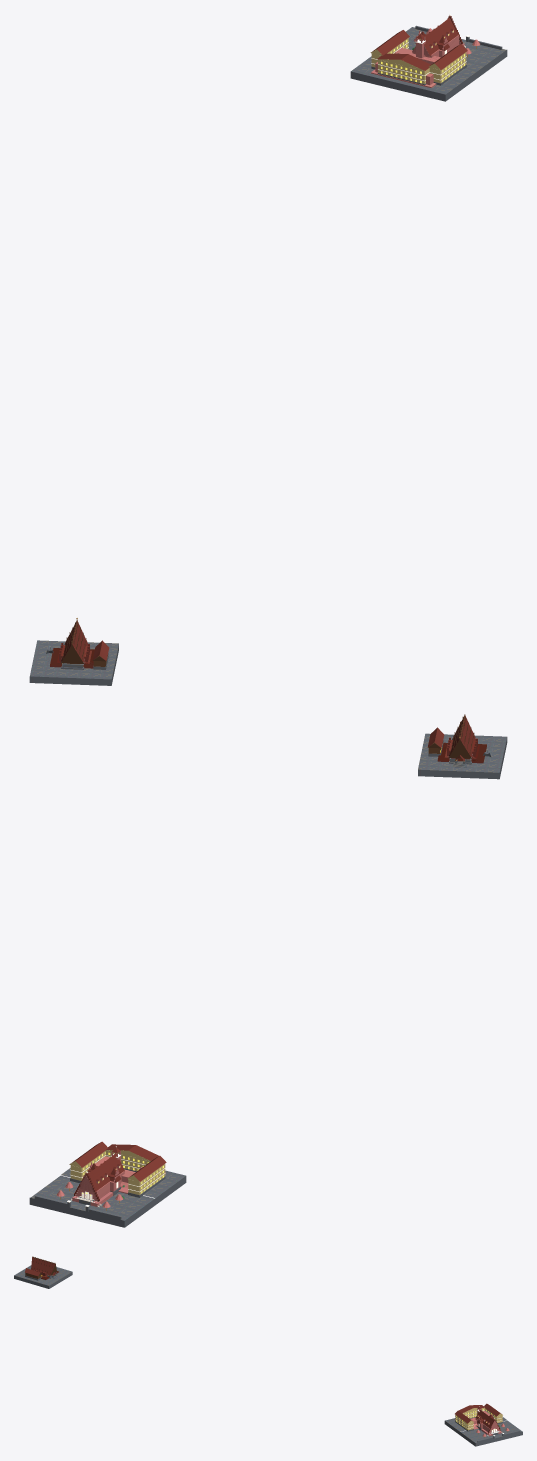
The model's file is tc_04_domaine_de_marie_and_cam_ly_churches.glb.
3 views of the same model, one above another, from view 1: azimuth 30°, elevation 25°; view 2: azimuth 210°, elevation 25°; view 3: azimuth 270°, elevation 25° (orthographic). The views are drawn at different scales.
Parts seen in each view (by area): view 1: Domaine_01_Normandy_Stone_Plinth_And_Twin_Stairs, CamLy_01_Split_Stone_40cm_Base_Wall_And_Grotto, Domaine_04_Steep_Rong_Tile_Roof_And_10_Dormers, Domaine_06_St_Vincent_3Story_Convent_Wings, CamLy_04_17m_Nha_Rong_Axe_Blade_Roof_80k_Tiles, Domaine_02_Terracotta_Pink_Chapel_Nave_33x11m; view 2: Domaine_01_Normandy_Stone_Plinth_And_Twin_Stairs, CamLy_01_Split_Stone_40cm_Base_Wall_And_Grotto, Domaine_04_Steep_Rong_Tile_Roof_And_10_Dormers, Domaine_06_St_Vincent_3Story_Convent_Wings, CamLy_04_17m_Nha_Rong_Axe_Blade_Roof_80k_Tiles, Domaine_02_Terracotta_Pink_Chapel_Nave_33x11m, CamLy_03_12m_Span_Timber_Truss_And_LangBiang_Altar; view 3: Domaine_01_Normandy_Stone_Plinth_And_Twin_Stairs, CamLy_01_Split_Stone_40cm_Base_Wall_And_Grotto, Domaine_04_Steep_Rong_Tile_Roof_And_10_Dormers, CamLy_04_17m_Nha_Rong_Axe_Blade_Roof_80k_Tiles, Domaine_06_St_Vincent_3Story_Convent_Wings, Domaine_02_Terracotta_Pink_Chapel_Nave_33x11m.
Boxes of the visible parts, x1,y1,x2,y2 form: Domaine_01_Normandy_Stone_Plinth_And_Twin_Stairs: (350,25,507,101); CamLy_01_Split_Stone_40cm_Base_Wall_And_Grotto: (29,640,118,685); Domaine_04_Steep_Rong_Tile_Roof_And_10_Dormers: (372,15,467,70); Domaine_06_St_Vincent_3Story_Convent_Wings: (371,38,466,83); CamLy_04_17m_Nha_Rong_Axe_Blade_Roof_80k_Tiles: (50,621,109,668); Domaine_02_Terracotta_Pink_Chapel_Nave_33x11m: (371,17,480,87); Domaine_01_Normandy_Stone_Plinth_And_Twin_Stairs: (29,1168,186,1227); CamLy_01_Split_Stone_40cm_Base_Wall_And_Grotto: (418,733,507,779); Domaine_04_Steep_Rong_Tile_Roof_And_10_Dormers: (70,1141,166,1201); Domaine_06_St_Vincent_3Story_Convent_Wings: (69,1150,165,1194); CamLy_04_17m_Nha_Rong_Axe_Blade_Roof_80k_Tiles: (427,715,486,763); Domaine_02_Terracotta_Pink_Chapel_Nave_33x11m: (56,1151,165,1207); CamLy_03_12m_Span_Timber_Truss_And_LangBiang_Altar: (428,714,474,758); Domaine_01_Normandy_Stone_Plinth_And_Twin_Stairs: (444,1417,522,1446); CamLy_01_Split_Stone_40cm_Base_Wall_And_Grotto: (14,1265,72,1288); Domaine_04_Steep_Rong_Tile_Roof_And_10_Dormers: (455,1403,501,1433); CamLy_04_17m_Nha_Rong_Axe_Blade_Roof_80k_Tiles: (25,1257,58,1279); Domaine_06_St_Vincent_3Story_Convent_Wings: (455,1407,502,1430); Domaine_02_Terracotta_Pink_Chapel_Nave_33x11m: (454,1408,509,1436).
Bounding box in the file's own units: 617 × 79.9 × 594.
Materials: 13 (5 with a texture image).
